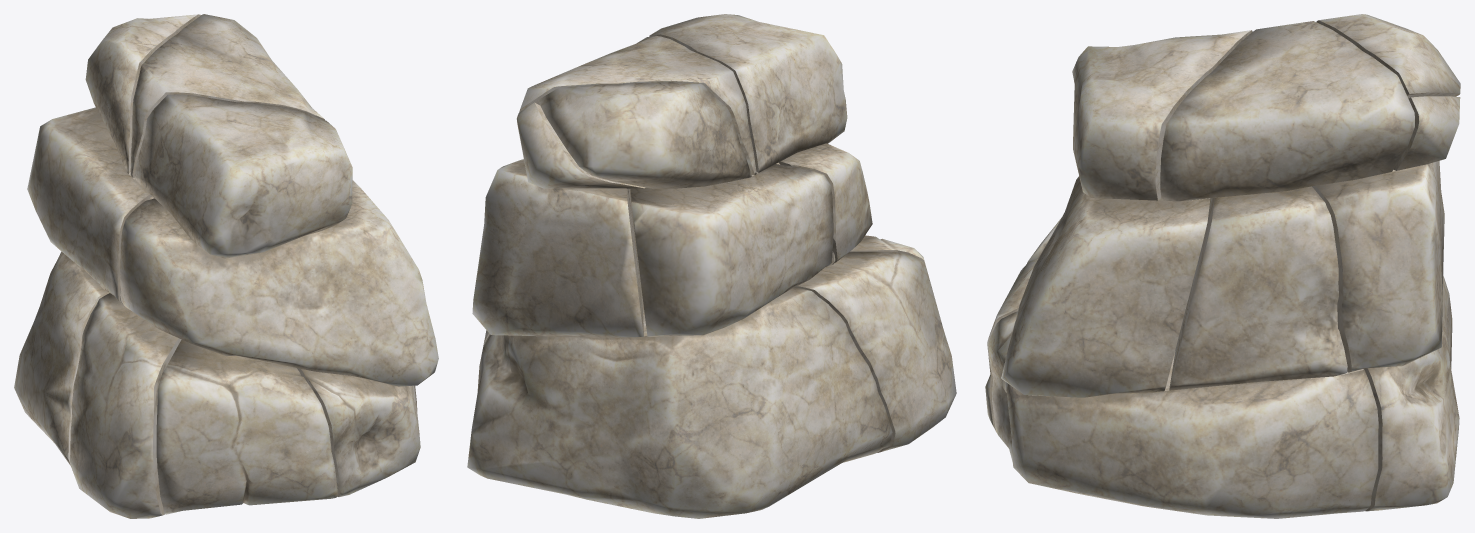
The model's file is SM_Stone5_Pieces.fbx.
3 renders of one model, left to right at view 1: azimuth 30°, elevation 25°; view 2: azimuth 150°, elevation 25°; view 3: azimuth 270°, elevation 25°, orthographic. The views are drawn at different scales.
Visible parts, largest first — view 1: SM_Stone5_Pieces_7, SM_Stone5_Pieces_6, SM_Stone5_Pieces_3, SM_Stone5_Pieces_1, SM_Stone5_Pieces_2, SM_Stone5_Pieces_8, SM_Stone5_Pieces_12, SM_Stone5_Pieces_4, SM_Stone5_Pieces_5; view 2: SM_Stone5_Pieces_4, SM_Stone5_Pieces_2, SM_Stone5_Pieces_10, SM_Stone5_Pieces_5, SM_Stone5_Pieces_1, SM_Stone5_Pieces_6, SM_Stone5_Pieces_8, SM_Stone5_Pieces_7, SM_Stone5_Pieces_9, SM_Stone5_Pieces_3; view 3: SM_Stone5_Pieces_12, SM_Stone5_Pieces_8, SM_Stone5_Pieces_7, SM_Stone5_Pieces_11, SM_Stone5_Pieces_10, SM_Stone5_Pieces_6, SM_Stone5_Pieces_4, SM_Stone5_Pieces_5, SM_Stone5_Pieces_9, SM_Stone5_Pieces_3.
Boxes of the visible parts, box(x1,y1,x2,y2) form: SM_Stone5_Pieces_7: box(120, 180, 438, 386); SM_Stone5_Pieces_6: box(134, 94, 352, 258); SM_Stone5_Pieces_3: box(156, 340, 337, 514); SM_Stone5_Pieces_1: box(70, 293, 181, 518); SM_Stone5_Pieces_2: box(27, 107, 152, 301); SM_Stone5_Pieces_8: box(130, 14, 324, 177); SM_Stone5_Pieces_12: box(297, 368, 420, 496); SM_Stone5_Pieces_4: box(14, 251, 109, 470); SM_Stone5_Pieces_5: box(85, 14, 200, 173); SM_Stone5_Pieces_4: box(467, 287, 892, 518); SM_Stone5_Pieces_2: box(630, 164, 833, 336); SM_Stone5_Pieces_10: box(472, 159, 643, 337); SM_Stone5_Pieces_5: box(538, 82, 751, 188); SM_Stone5_Pieces_1: box(795, 251, 956, 452); SM_Stone5_Pieces_6: box(649, 14, 847, 172); SM_Stone5_Pieces_8: box(519, 36, 756, 174); SM_Stone5_Pieces_7: box(779, 143, 872, 262); SM_Stone5_Pieces_9: box(516, 102, 645, 188); SM_Stone5_Pieces_3: box(850, 235, 928, 275); SM_Stone5_Pieces_12: box(988, 311, 1378, 518); SM_Stone5_Pieces_8: box(1160, 21, 1414, 201); SM_Stone5_Pieces_7: box(1001, 176, 1210, 397); SM_Stone5_Pieces_11: box(1169, 186, 1347, 390); SM_Stone5_Pieces_10: box(1312, 161, 1444, 372); SM_Stone5_Pieces_6: box(1072, 30, 1252, 200); SM_Stone5_Pieces_4: box(1363, 275, 1459, 511); SM_Stone5_Pieces_5: box(1316, 14, 1460, 98); SM_Stone5_Pieces_9: box(1393, 96, 1460, 170); SM_Stone5_Pieces_3: box(985, 218, 1061, 430).
Size of the model in its own units: 1.12 by 1.13 by 1.18.
